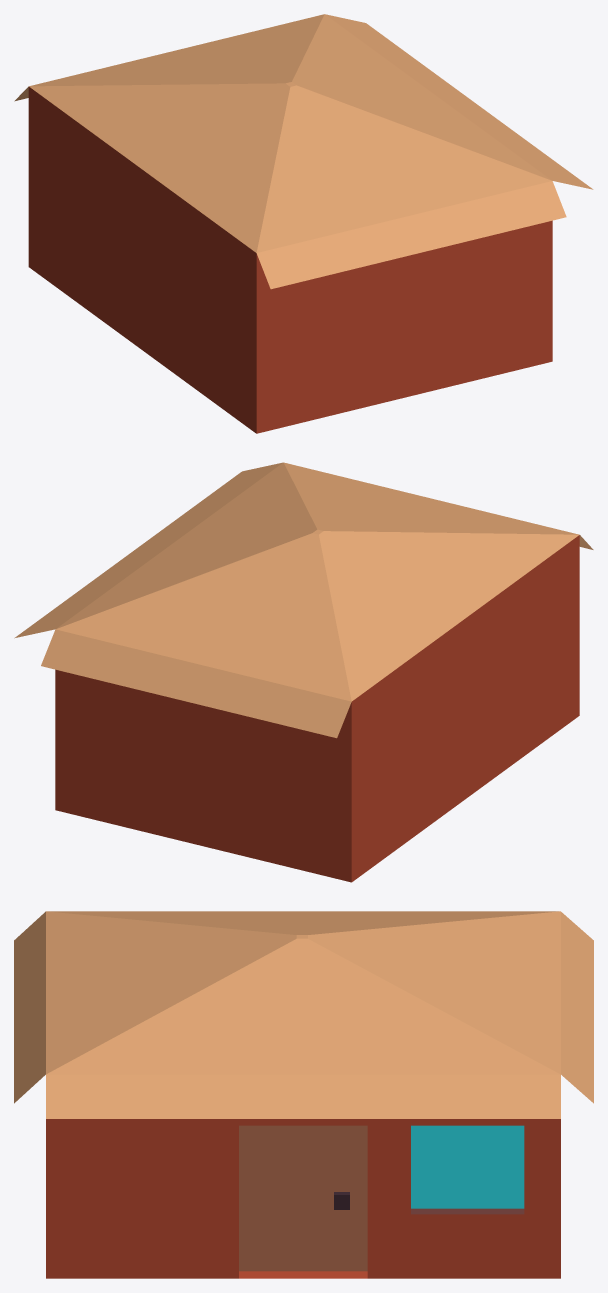
File: PastorinoDesperesBenicio_4C_casaantigua3.fbx
3 renders of one model, top to bottom at view 1: azimuth 30°, elevation 25°; view 2: azimuth 150°, elevation 25°; view 3: azimuth 270°, elevation 25°, orthographic. The views are drawn at different scales.
Visible parts, largest first — view 1: Cube; view 2: Cube; view 3: Cube.
Boxes of the visible parts, x1,y1,x2,y2 form: Cube: (14,14,593,433); Cube: (14,462,593,882); Cube: (14,911,593,1278).
Size of the model in its own units: 684 by 446 by 901.
Materials: 1 (1 with a texture image).
